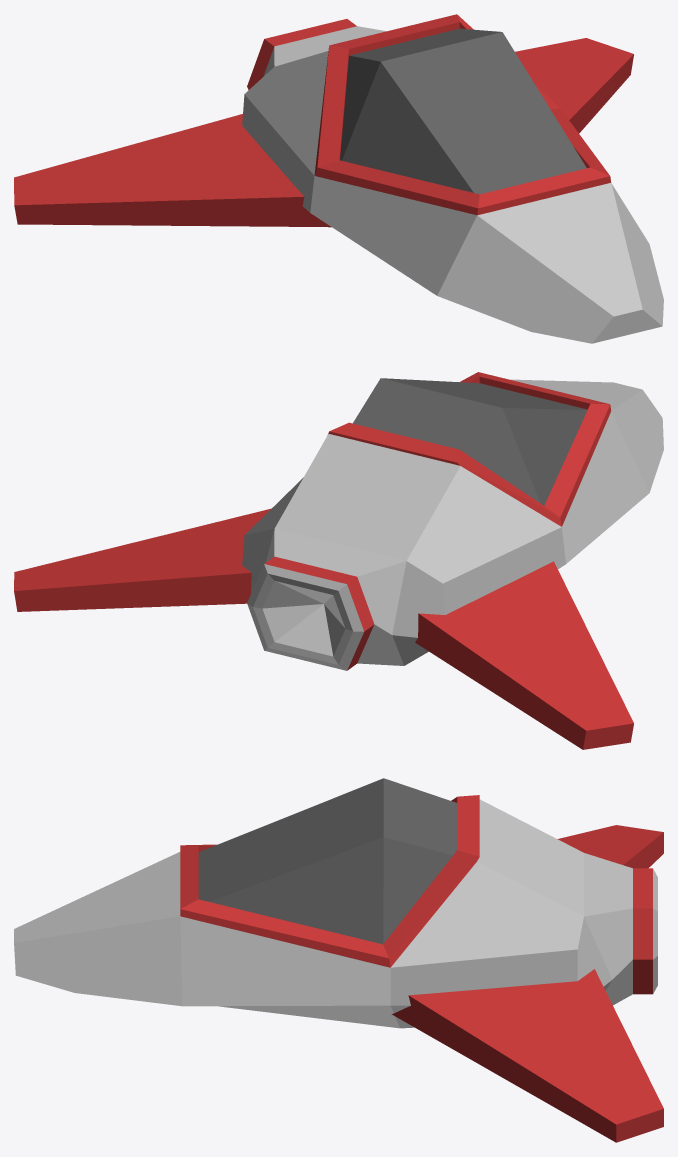
Rendered from Ship.fbx.
3 views of the same model, one above another, from view 1: azimuth 30°, elevation 25°; view 2: azimuth 150°, elevation 25°; view 3: azimuth 270°, elevation 25° (orthographic).
Parts seen in each view (by area): view 1: pCube15; view 2: pCube15; view 3: pCube15.
Part boxes in pixels (bbox=[...]): pCube15: bbox=[14, 14, 663, 343]; pCube15: bbox=[14, 372, 663, 749]; pCube15: bbox=[14, 778, 663, 1142].
Bounding box in the file's own units: 4.47 × 1.31 × 4.09.
Materials: 1 (1 with a texture image).
